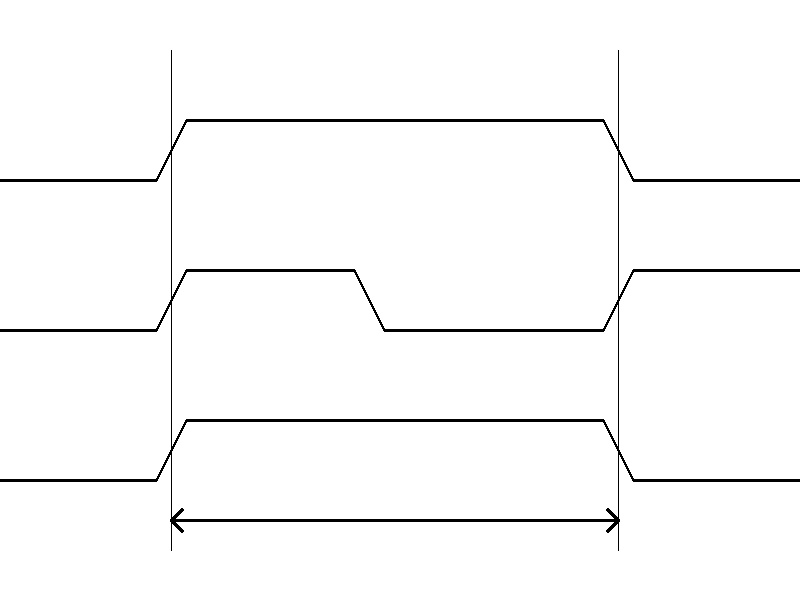double_arrow: (171, 505, 618, 535)
